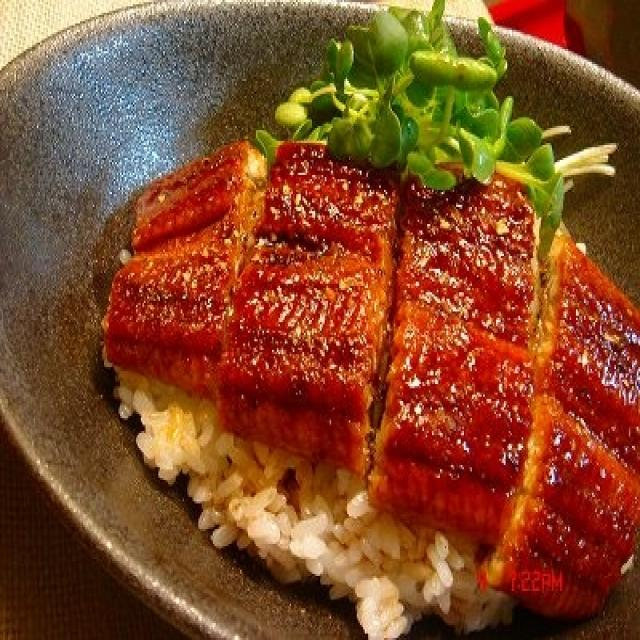熟制海鲜: (16, 6, 634, 632)
